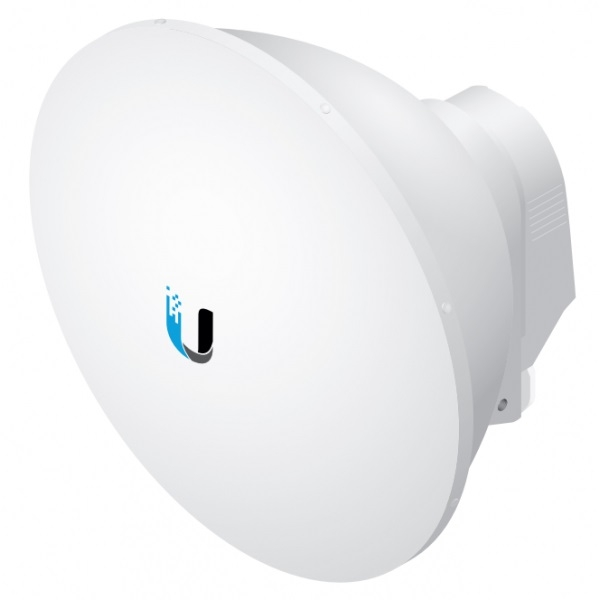ba: (12, 2, 585, 587)
